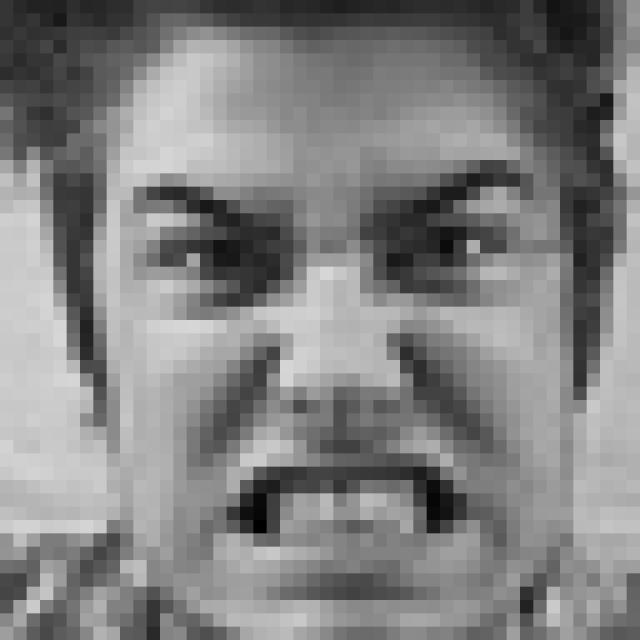angry: (130, 154, 544, 576)
